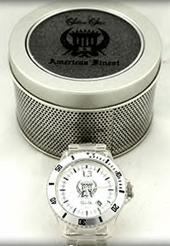watch: (46, 154, 132, 229)
